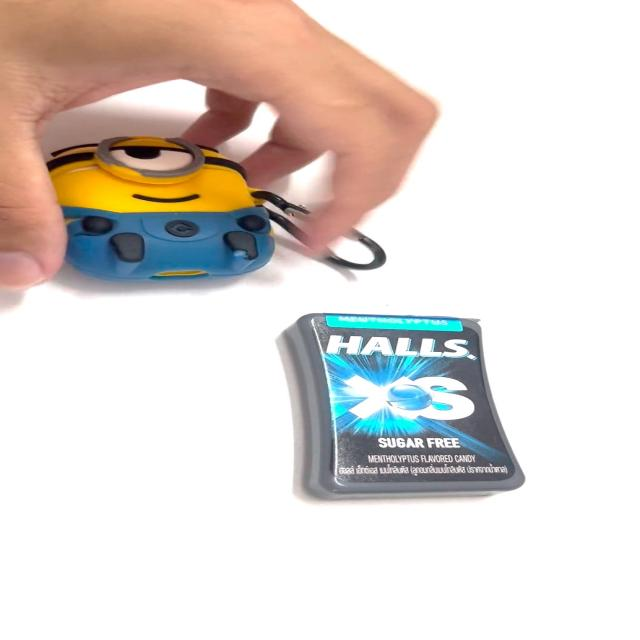airpod minion: (34, 132, 404, 286)
mint hall: (261, 303, 535, 514)
